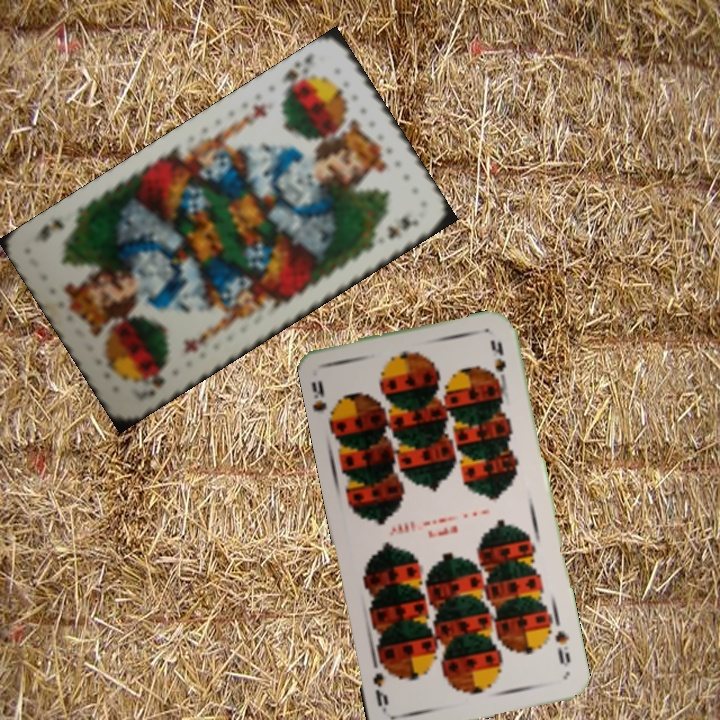S9: (307, 375, 342, 427), (551, 626, 573, 670)
SK: (142, 361, 171, 398), (278, 59, 304, 98)
